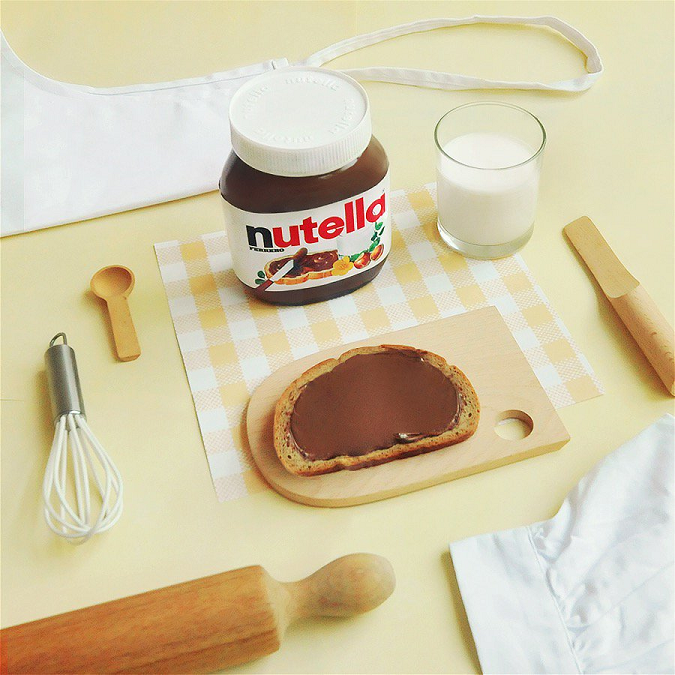nutella: (218, 66, 391, 307)
